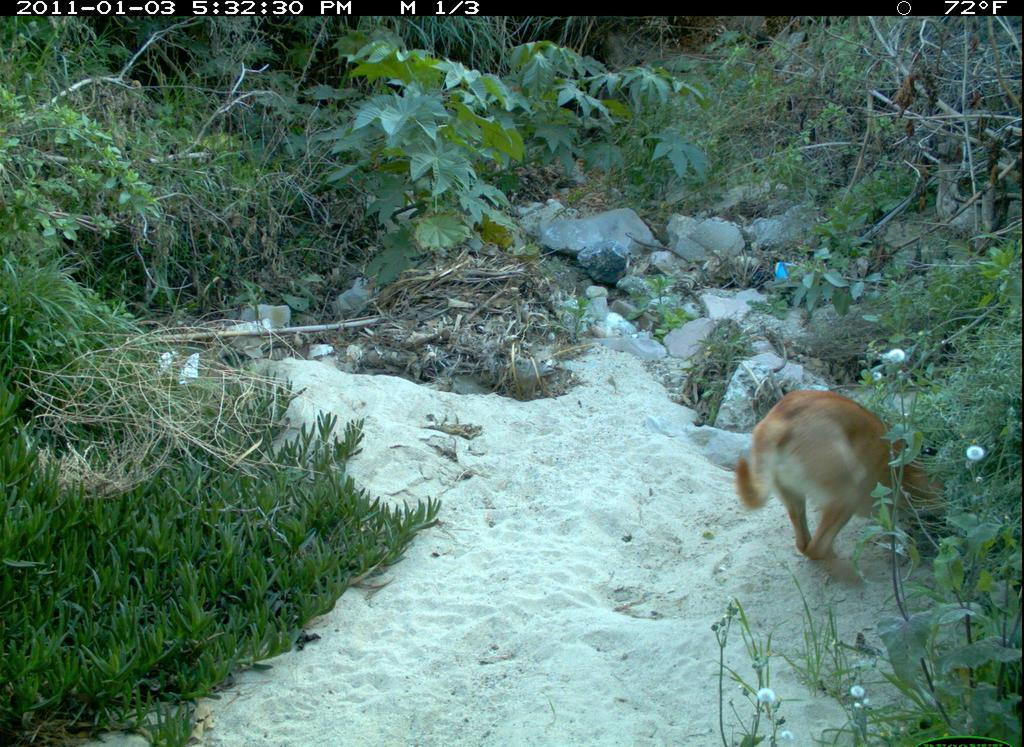dog: (721, 370, 943, 584)
